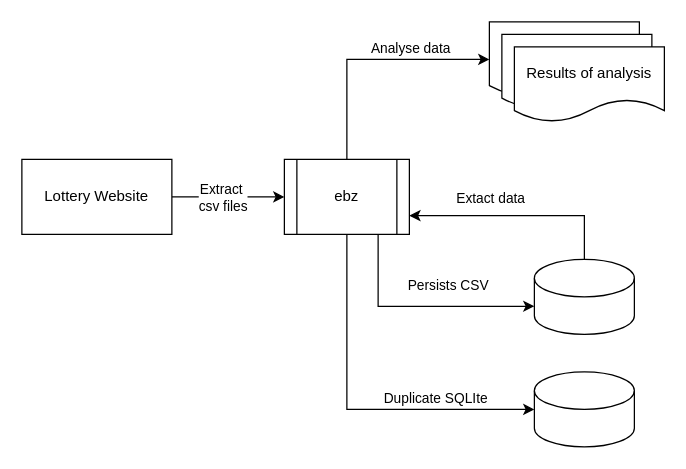
This 686x469 diagram has some shape labels left out. The centre of each missing label's shape, as x and y in pixels:
"Postgres" belongs at [583,409].
"SQLite" belongs at [583,296].
